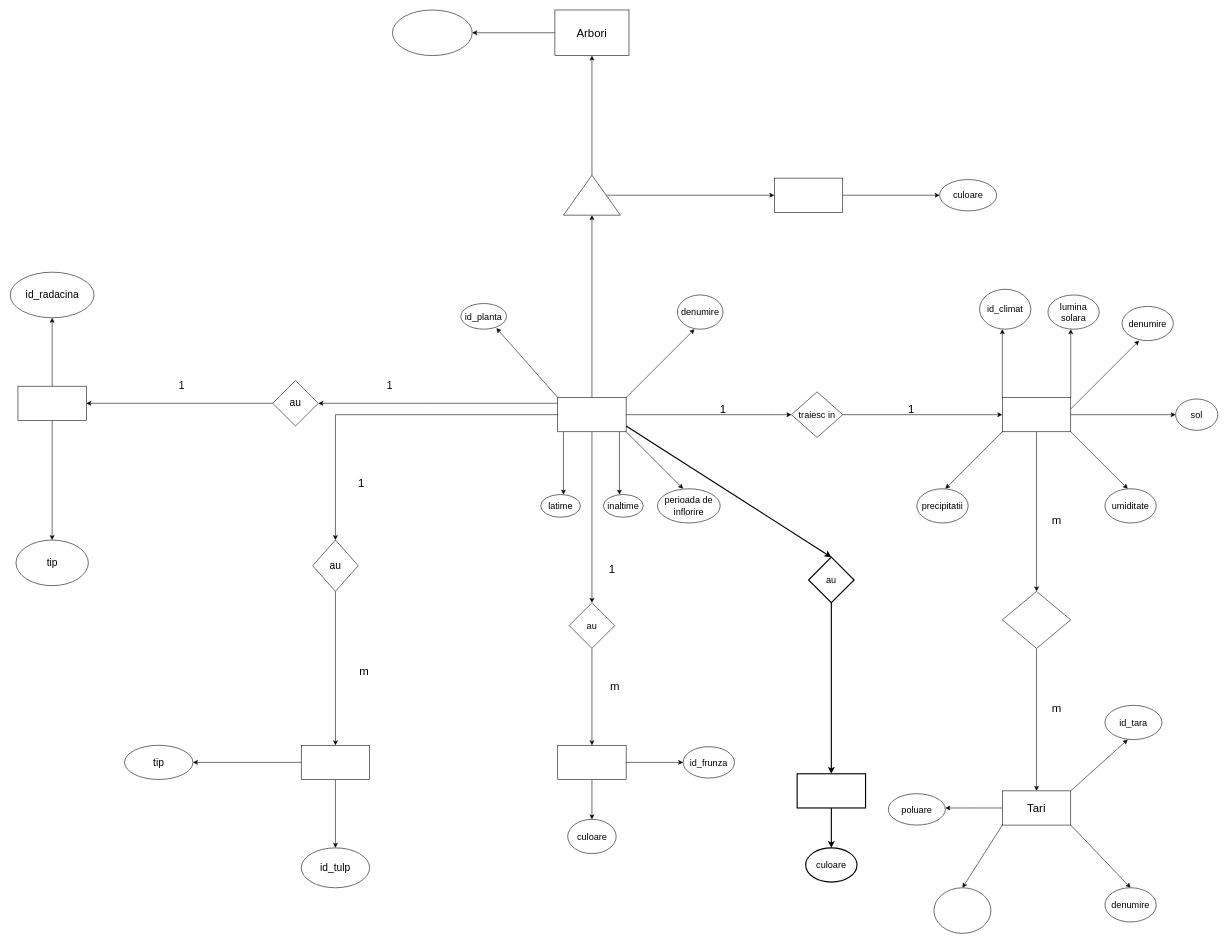
This 1228x943 diagram has some shape labels left out. The shapes that lost their labels are listed below. From the top down, each one's box as (x1, y1, x2, y2) in pixels, then its label:
(392, 9, 472, 56): Specie
(563, 175, 620, 215): isa
(774, 178, 843, 212): Bujori arborescenti
(17, 386, 86, 420): Radacini
(557, 397, 626, 432): Plante
(1002, 397, 1071, 432): Climate
(1002, 591, 1071, 648): se gasesc in
(301, 745, 370, 779): Tulpini
(557, 745, 626, 779): Frunze
(796, 773, 866, 808): Flori
(933, 887, 991, 933): temperatura medie
